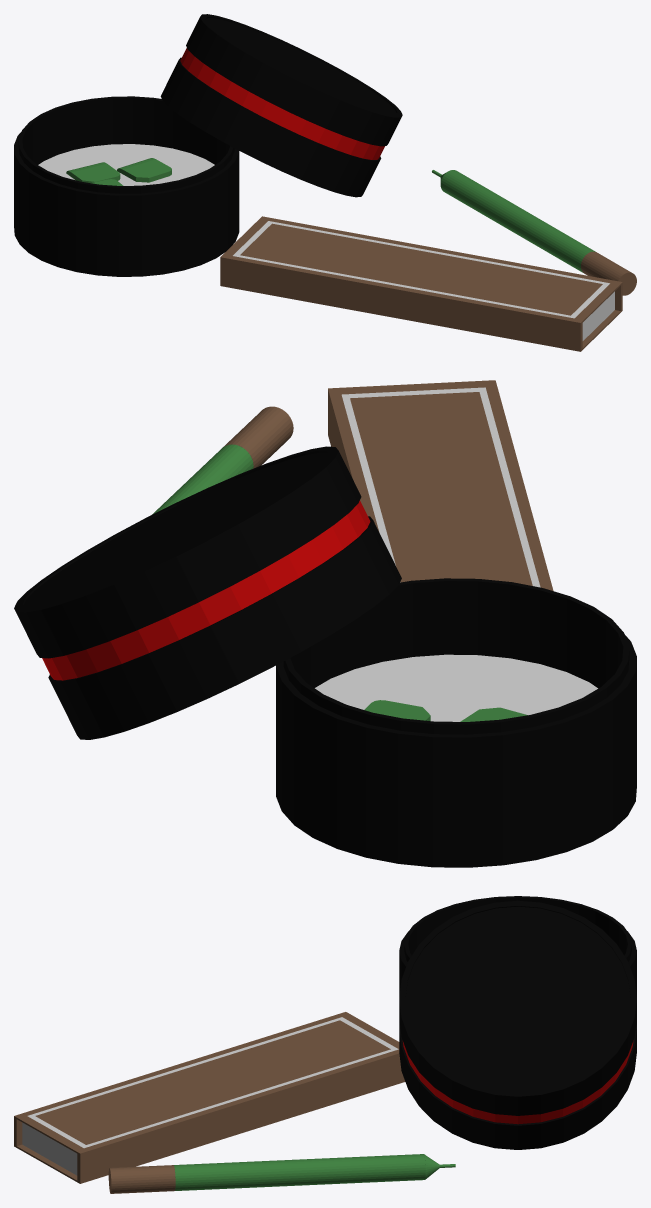
Rendered from Paper.glb.
3 views of the same model, one above another, from view 1: azimuth 30°, elevation 25°; view 2: azimuth 150°, elevation 25°; view 3: azimuth 270°, elevation 25° (orthographic). The views are drawn at different scales.
Parts seen in each view (by area): view 1: Paper; view 2: Paper; view 3: Paper.
Part boxes in pixels (<box>): Paper: <box>14,14,636,351</box>; Paper: <box>14,380,636,867</box>; Paper: <box>14,896,636,1193</box>.
Size of the model in its own units: 0.1338 by 0.0536 by 0.1651.
